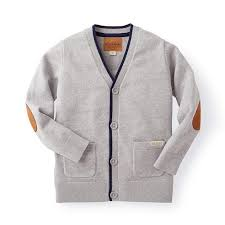S_cardigan sweater: (28, 23, 200, 204)
